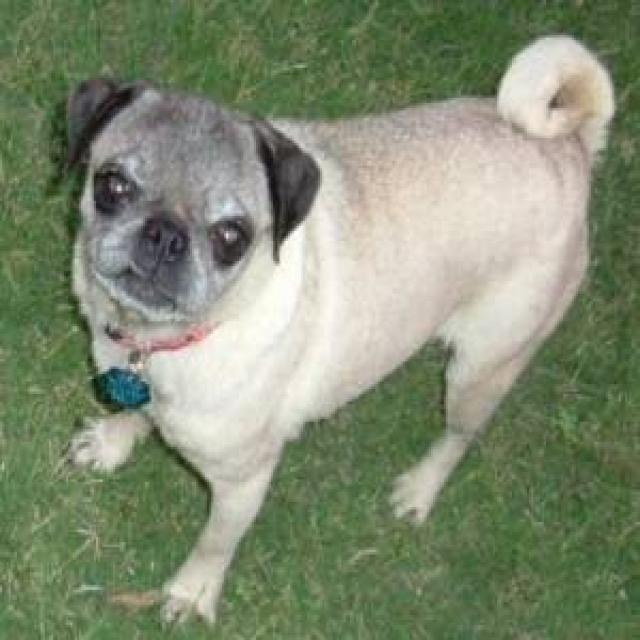dog-pug: (47, 28, 619, 622)
